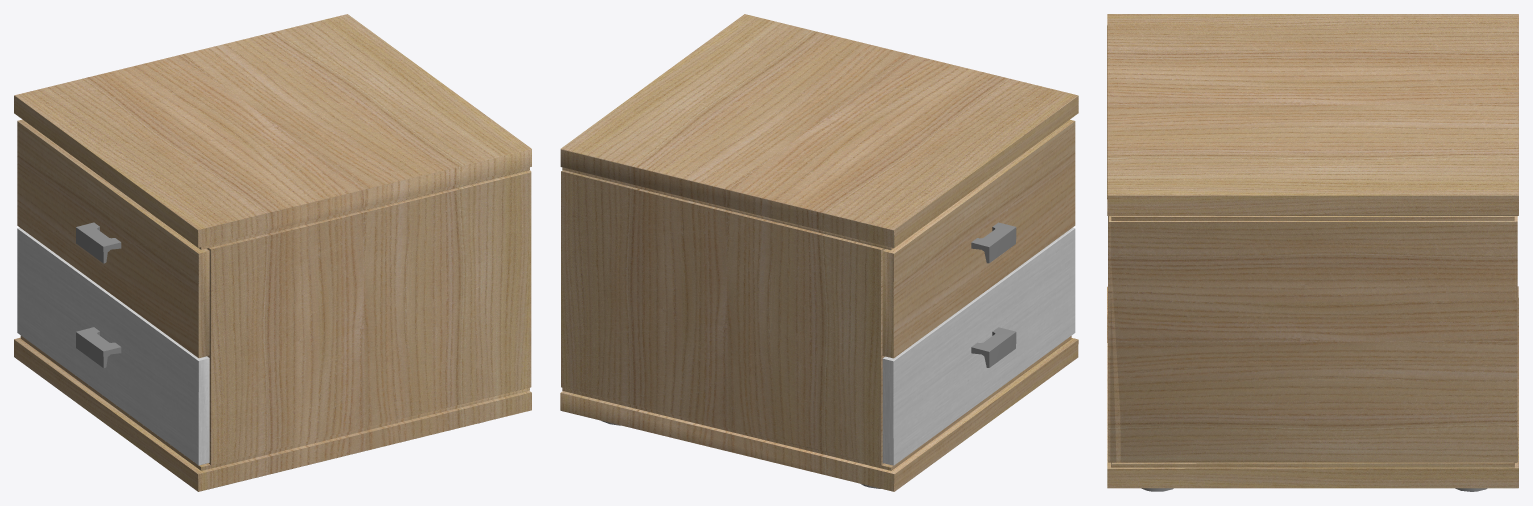
Rendered from bedside table.FBX.
The picture shows the model from 3 angles, left to right: view 1: azimuth 30°, elevation 25°; view 2: azimuth 150°, elevation 25°; view 3: azimuth 270°, elevation 25°; orthographic projection. The views are drawn at different scales.
Parts seen in each view (by area): view 1: bedside table; view 2: bedside table; view 3: bedside table.
Part boxes in pixels (x1,y1,x2,y2): bedside table: (14,14,531,491); bedside table: (560,14,1078,491); bedside table: (1107,14,1518,491).
Size of the model in its own units: 20.81 by 18.96 by 15.53.
3 materials, 2 textured.
